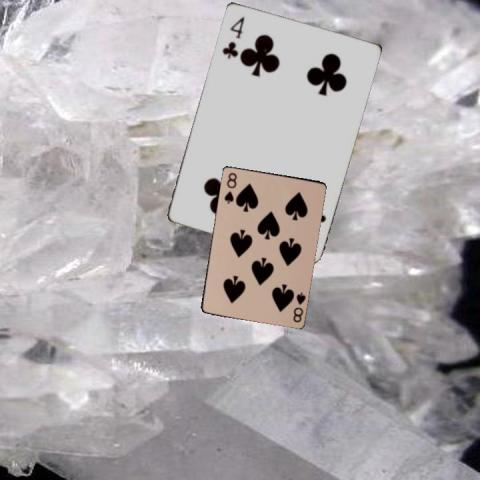4c: (219, 13, 246, 60)
8s: (221, 169, 238, 205), (290, 289, 307, 324)
